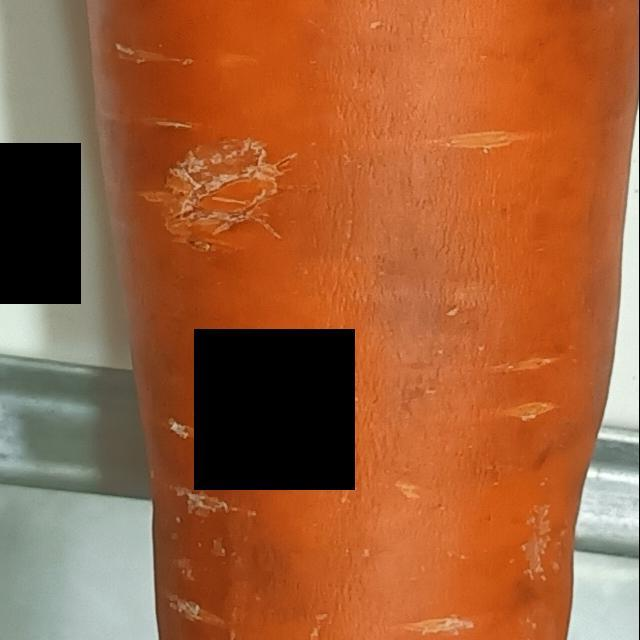carrot: (34, 1, 640, 640)
